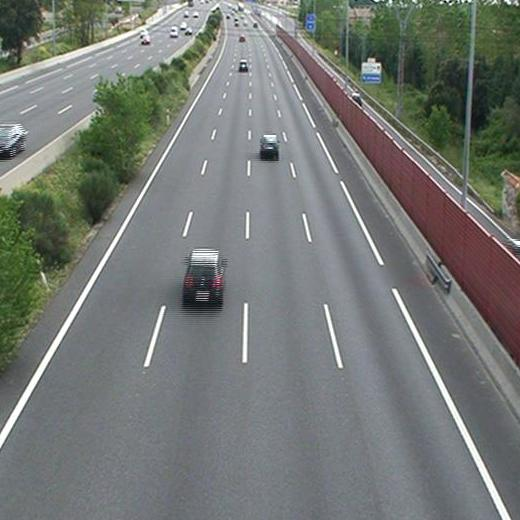car: (184, 249, 222, 301), (261, 135, 279, 153), (239, 60, 248, 70)
